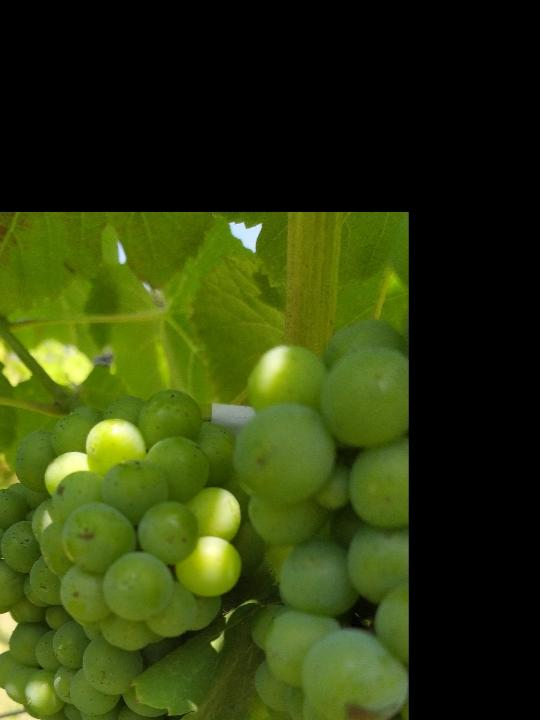grape: (0, 388, 253, 720)
